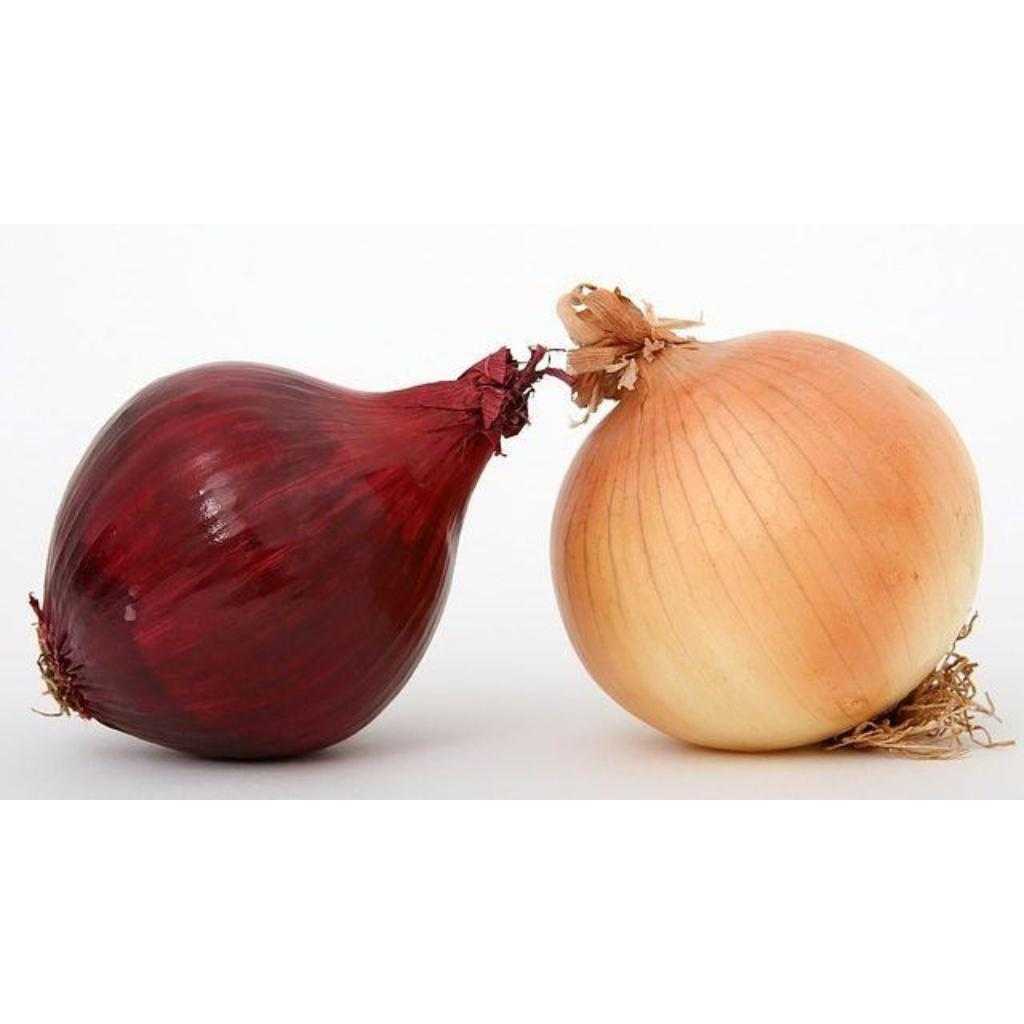Onion: (30, 346, 568, 759), (552, 283, 984, 751)
